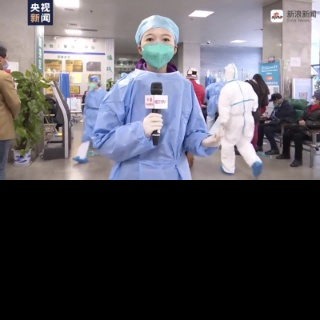with_mask: (140, 32, 176, 68), (2, 57, 9, 71), (310, 97, 320, 106), (89, 80, 98, 89), (272, 100, 281, 108)
